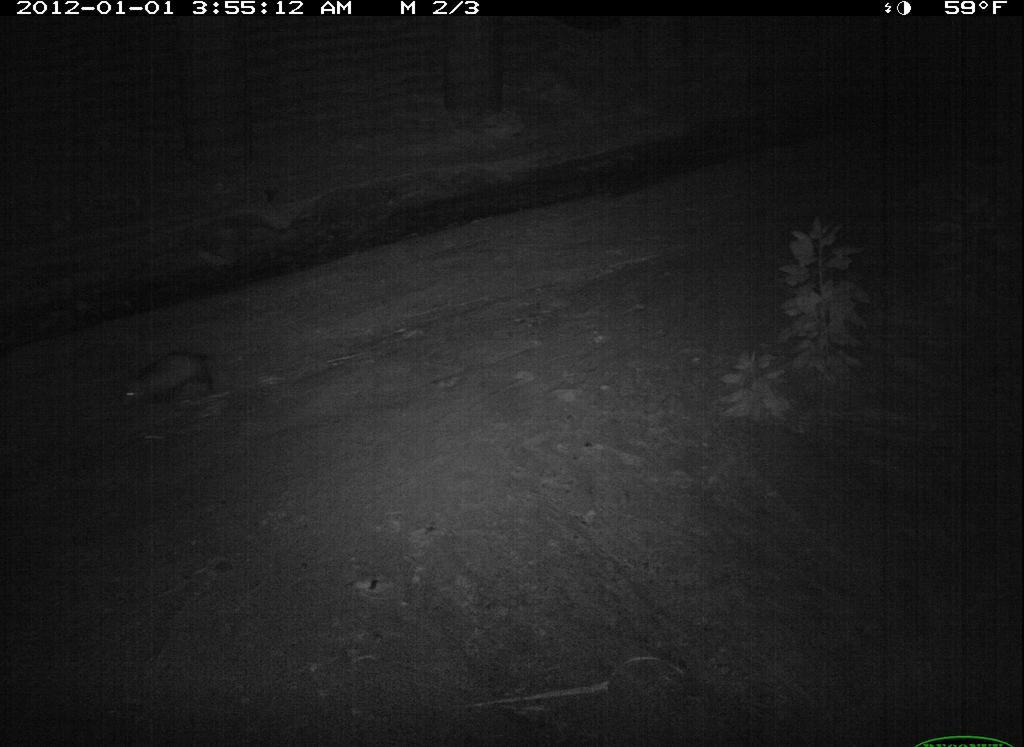opossum: (113, 345, 221, 422)
